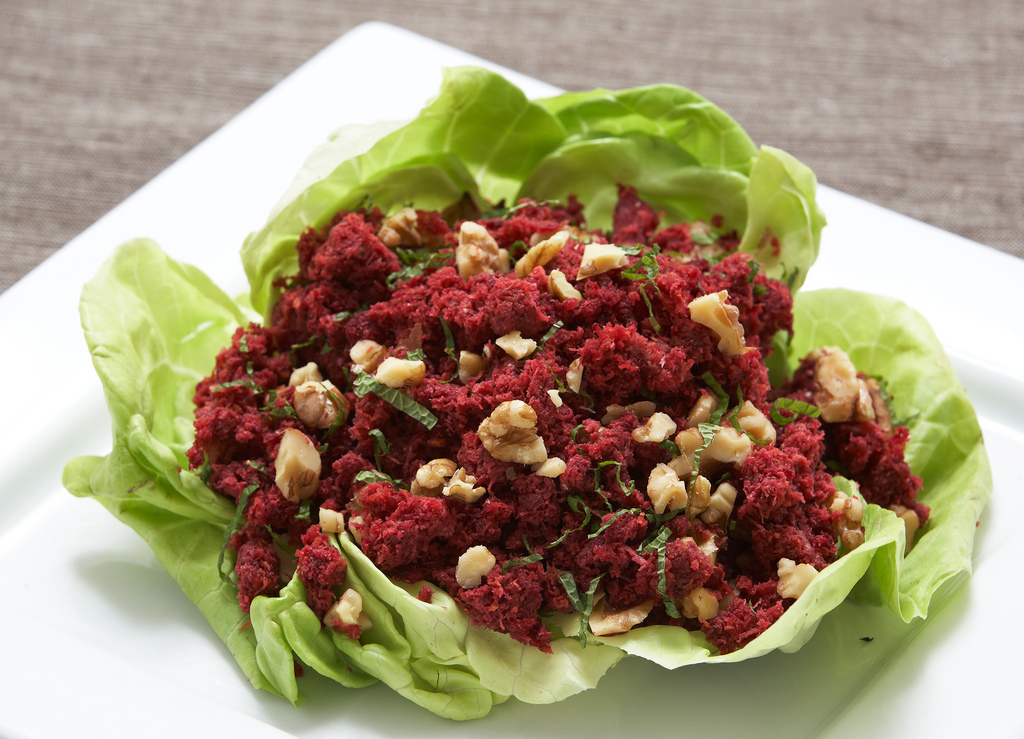chopped lettuce: (177, 512, 984, 712), (284, 82, 816, 264)
